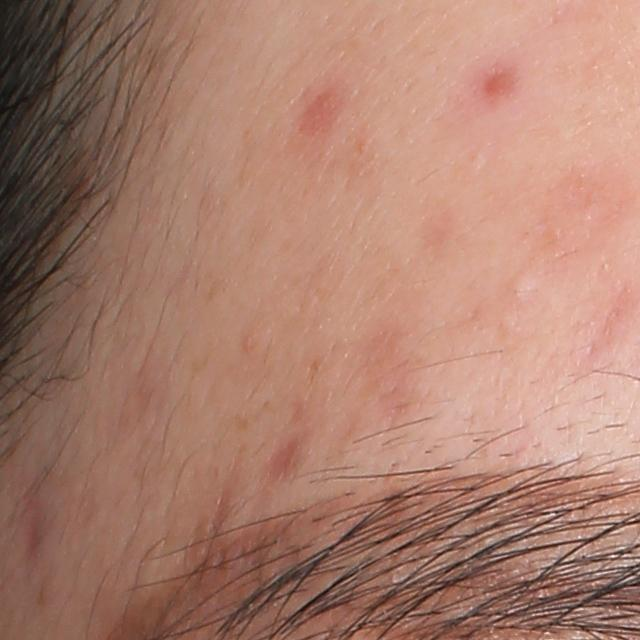comedo: (502, 269, 543, 310)
